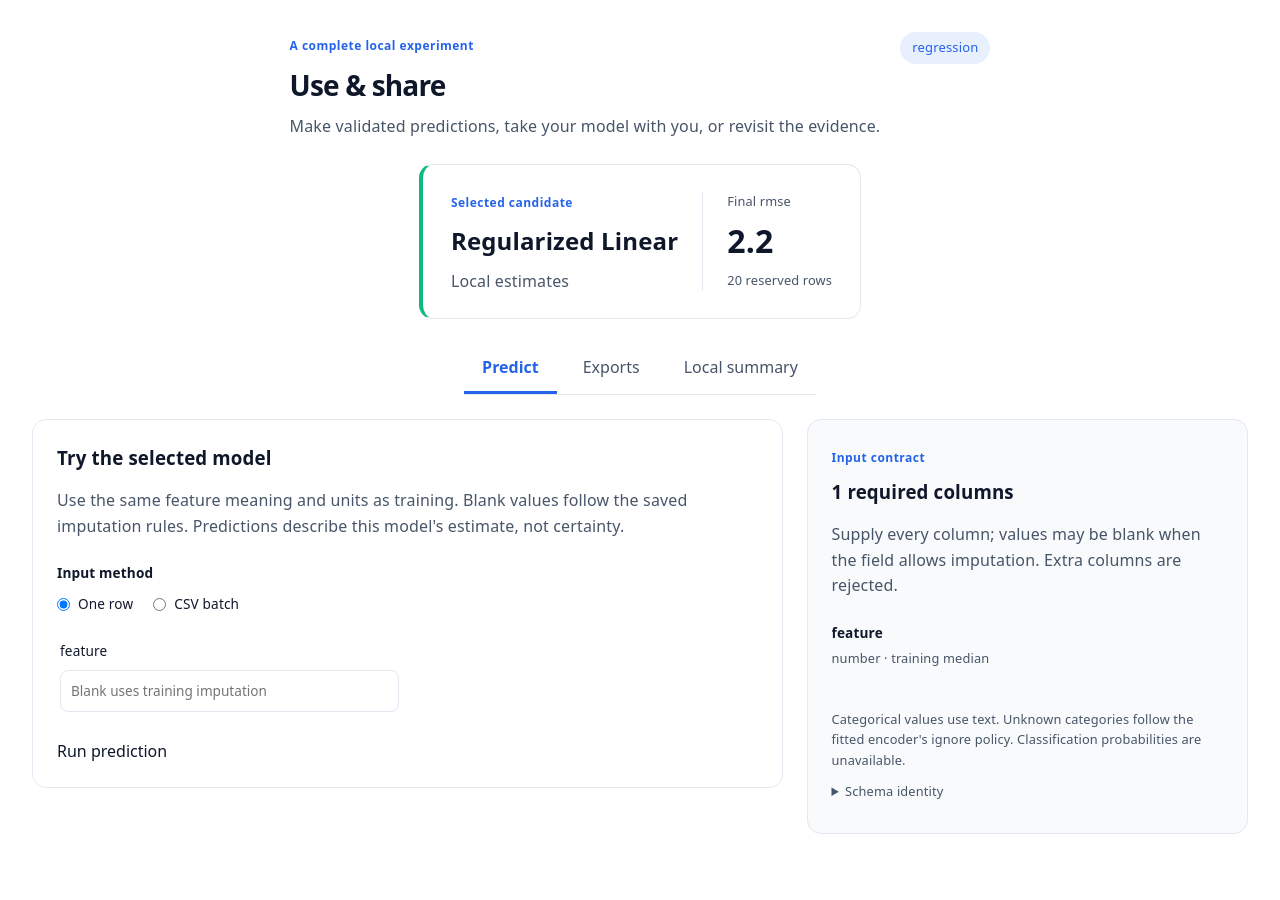
Scenario: validates one-row input through the server and renders a durable receipt
Step 1. Type "1.5" into the number field labelled "feature" → (230, 691), box 60,670 -> 399,712
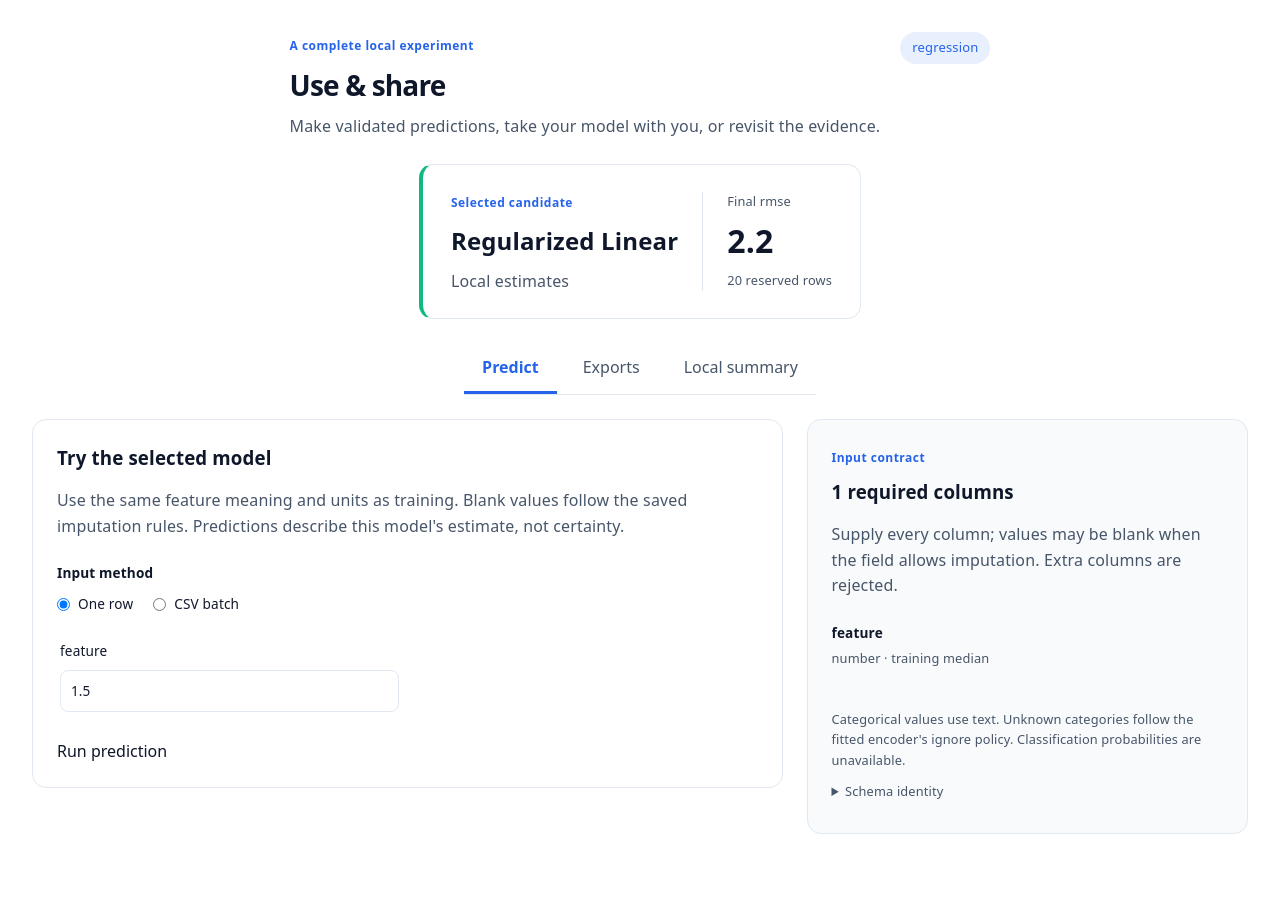
Step 2. Click the button "Run prediction" → (112, 751), box 57,739 -> 167,763
(page scrolled)
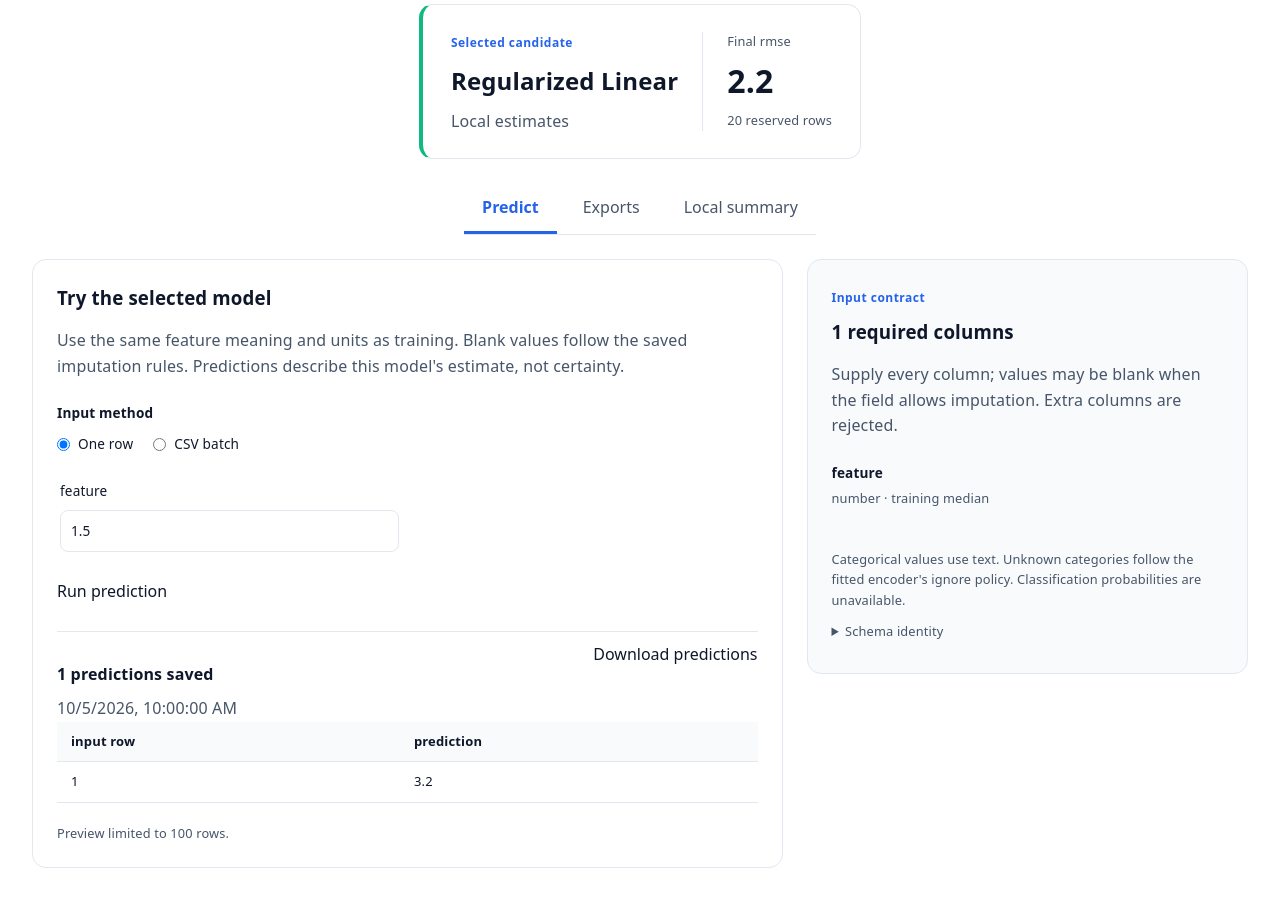
Expected: the heading "1 predictions saved" is shown, 57,662 -> 237,686
Expected: the text "3.2" is shown, 400,762 -> 758,802
